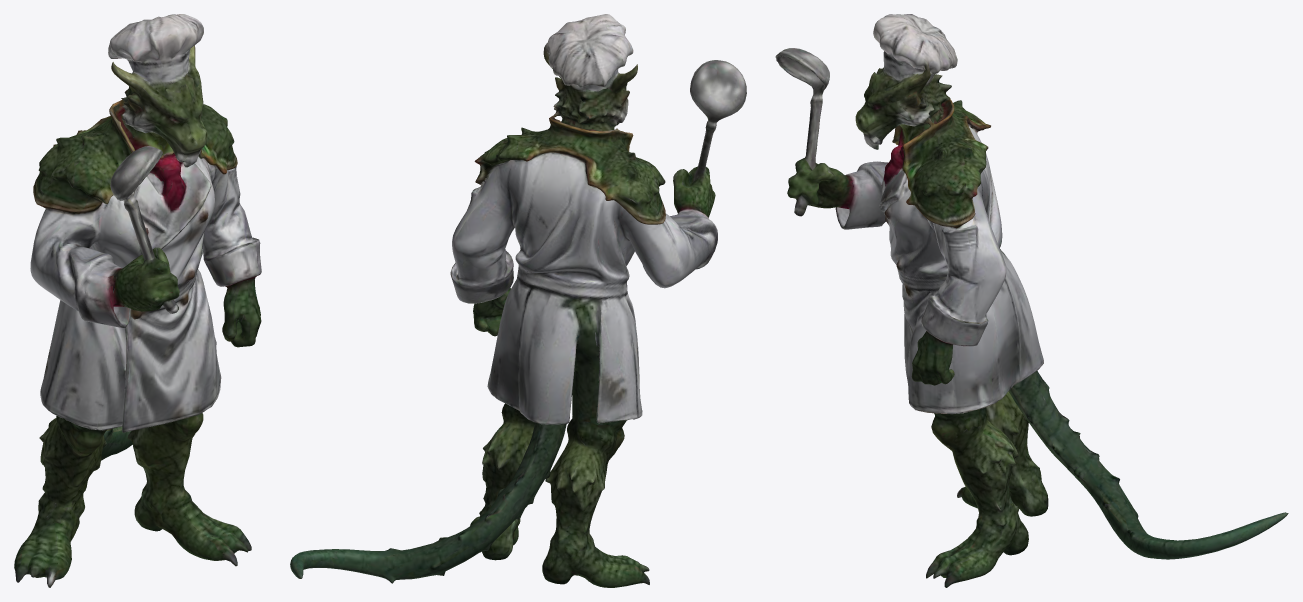
The model's file is agatha_dragon.glb.
3 views of the same model, side by side, from view 1: azimuth 30°, elevation 25°; view 2: azimuth 150°, elevation 25°; view 3: azimuth 270°, elevation 25° (orthographic). The views are drawn at different scales.
Bounding box in the file's own units: 0.4253 × 0.8612 × 0.7675.
Materials: 1 (1 with a texture image).
